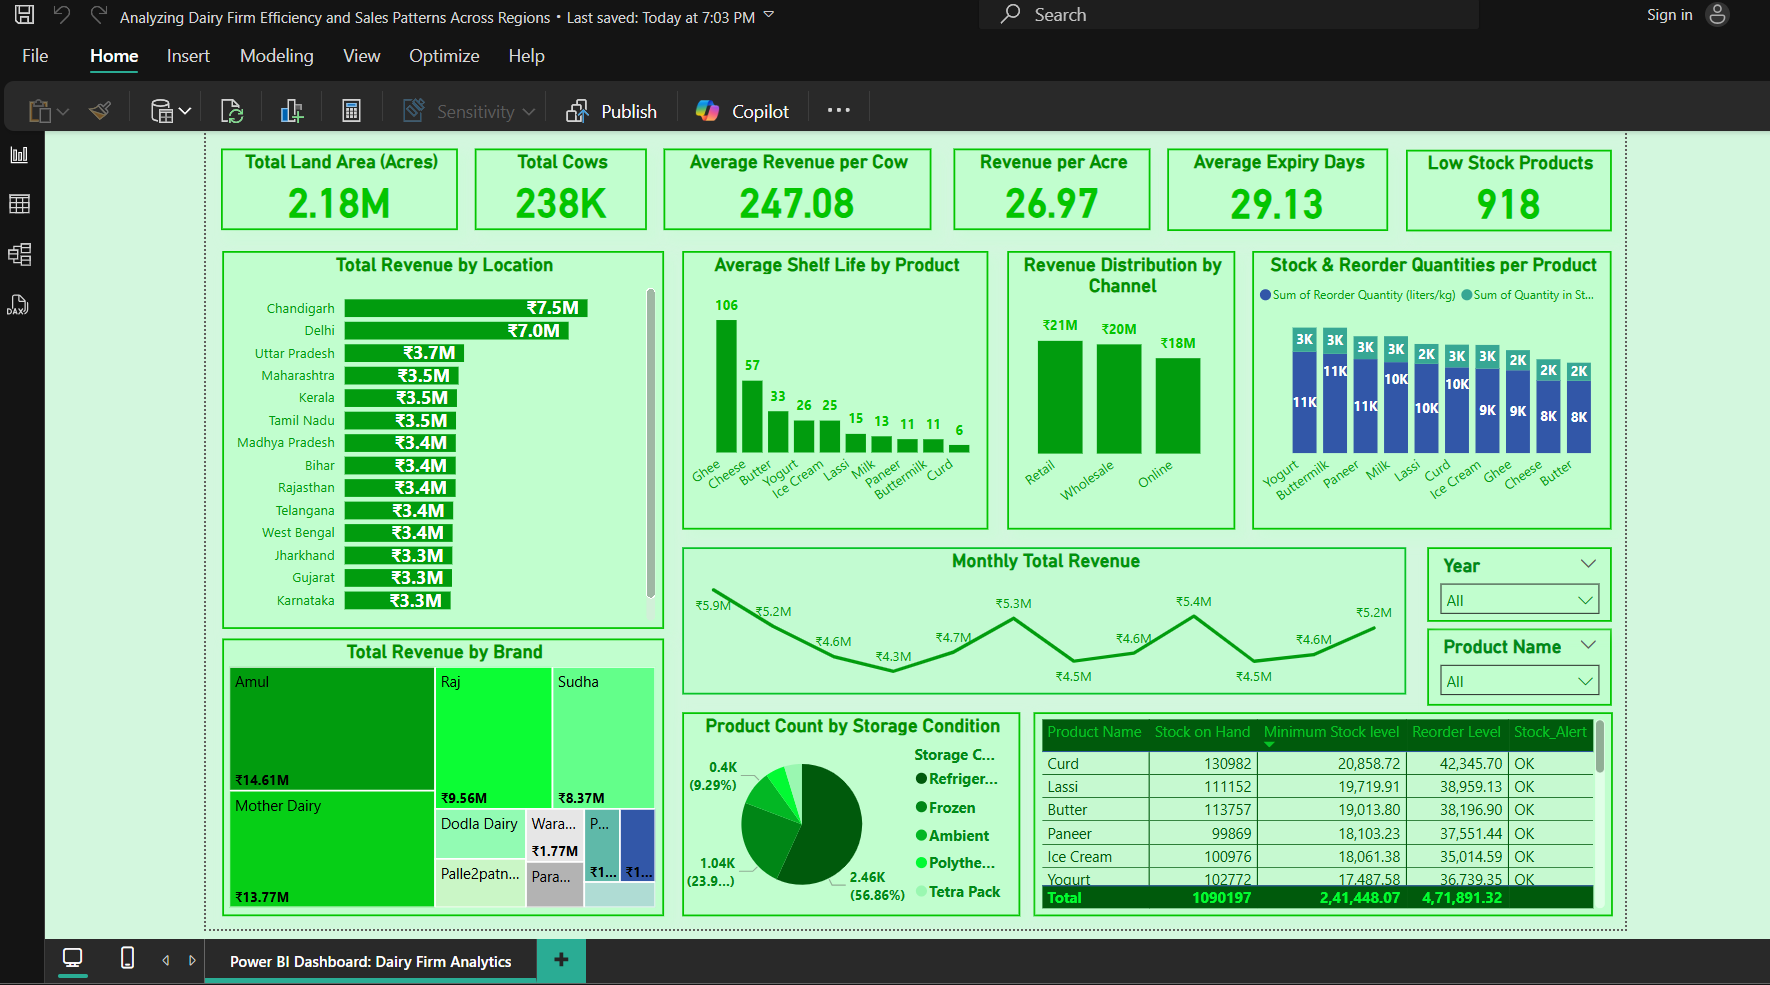

This screenshot's page, from the dashboard's own definition file:
{"tool":"powerbi","page":{"name":"Power BI Dashboard: Dairy Firm Analytics","canvas":[1280,720],"ordinal":0},"visuals":[{"type":"card","title":"Total Land Area (Acres)","fields":{"Values":["Sum(dairy_dataset.Total Land Area (acres))"]},"box":[13.7,16.2,214,73.4],"z":0},{"type":"card","title":"Total Cows","fields":{"Values":["dairy_dataset.Total_Cows"]},"box":[242.6,16.2,155.5,73.4],"z":1000},{"type":"card","title":"Average Revenue per Cow","fields":{"Values":["dairy_dataset.Avg_Revenue_Per_Cow"]},"box":[413,16.2,241.3,73.4],"z":2000},{"type":"barChart","title":"Total Revenue by Location","fields":{"Category":["dairy_dataset.Location"],"Y":["Sum(dairy_dataset.Approx. Total Revenue(INR))"]},"box":[14.9,108.2,398.1,340.8],"z":3000},{"type":"card","title":"Revenue per Acre","fields":{"Values":["dairy_dataset.Revenue_Per_Acre"]},"box":[674.2,16.2,177.9,73.4],"z":4000},{"type":"slicer","fields":{"Values":["dairy_dataset.Product Name"]},"box":[1101.3,448.7,166.7,69.2],"z":5000},{"type":"card","title":"Average Expiry Days","fields":{"Values":["dairy_dataset.Avg_Expiry_Days"]},"box":[867,16.2,199,74.6],"z":6000},{"type":"card","title":"Low Stock Products","fields":{"Values":["dairy_dataset.Low_Stock_Count"]},"box":[1082.2,17.4,185.3,73.4],"z":7000},{"type":"columnChart","title":"Average Shelf Life by Product","fields":{"Category":["dairy_dataset.Product Name"],"Y":["dairy_dataset.Avg_Shelf_Life"]},"box":[429.2,108.2,276.2,251.3],"z":8000},{"type":"columnChart","title":"Revenue Distribution by Channel","fields":{"Category":["dairy_dataset.Sales Channel"],"Y":["Sum(dairy_dataset.Approx. Total Revenue(INR))"]},"box":[722.7,108.2,205.3,251.3],"z":9000},{"type":"columnChart","title":"Stock & Reorder Quantities per Product","fields":{"Category":["dairy_dataset.Product Name"],"Y":["Sum(dairy_dataset.Reorder Quantity (liters/kg))","Sum(dairy_dataset.Quantity in Stock (liters/kg))"]},"box":[943.6,107.7,324.4,251.3],"z":10000},{"type":"slicer","fields":{"Values":["dairy_dataset.Date.Variation.Date Hierarchy.Year"]},"box":[1100.9,375.7,166.7,67.2],"z":11000},{"type":"tableEx","fields":{"Values":["dairy_dataset.Product Name","Sum(dairy_dataset.Quantity in Stock (liters/kg))","Sum(dairy_dataset.Minimum Stock Threshold (liters/kg))","Sum(dairy_dataset.Reorder Quantity (liters/kg))","dairy_dataset.Stock_Alert"]},"box":[746.4,523.7,522.5,184.1],"z":12000},{"type":"lineChart","title":"Monthly Total Revenue","fields":{"Category":["dairy_dataset.Date.Variation.Date Hierarchy.Month"],"Y":["Sum(dairy_dataset.Approx. Total Revenue(INR))"]},"box":[429.2,375.7,653.1,133.1],"z":13000},{"type":"treemap","title":"Total Revenue by Brand","fields":{"Group":["dairy_dataset.Brand"],"Values":["Sum(dairy_dataset.Approx. Total Revenue(INR))"]},"box":[14.9,457.8,398.1,250],"z":14000},{"type":"pieChart","title":"Product Count by Storage Condition","fields":{"Category":["dairy_dataset.Storage Condition"],"Y":["CountNonNull(dairy_dataset.Product ID)"]},"box":[429.2,523.7,304.8,184.1],"z":15000}]}

Visuals, with their boxes on the page's 1280x720 design canvas (x1, y1, x2, y2). These are canvas units, not pixel positions in the 1770x985 screenshot, which may show the page scaled, cropped or inside an application window:
"Total Land Area (Acres)" card: bbox(14, 16, 228, 90)
"Total Cows" card: bbox(243, 16, 398, 90)
"Average Revenue per Cow" card: bbox(413, 16, 654, 90)
"Total Revenue by Location" barChart: bbox(15, 108, 413, 449)
"Revenue per Acre" card: bbox(674, 16, 852, 90)
slicer - dairy_dataset.Product Name: bbox(1101, 449, 1268, 518)
"Average Expiry Days" card: bbox(867, 16, 1066, 91)
"Low Stock Products" card: bbox(1082, 17, 1268, 91)
"Average Shelf Life by Product" columnChart: bbox(429, 108, 705, 360)
"Revenue Distribution by Channel" columnChart: bbox(723, 108, 928, 360)
"Stock & Reorder Quantities per Product" columnChart: bbox(944, 108, 1268, 359)
slicer - dairy_dataset.Date.Variation.Date Hierarchy.Year: bbox(1101, 376, 1268, 443)
tableEx - dairy_dataset.Product Name x Sum(dairy_dataset.Quantity in Stock (liters/kg)): bbox(746, 524, 1269, 708)
"Monthly Total Revenue" lineChart: bbox(429, 376, 1082, 509)
"Total Revenue by Brand" treemap: bbox(15, 458, 413, 708)
"Product Count by Storage Condition" pieChart: bbox(429, 524, 734, 708)
